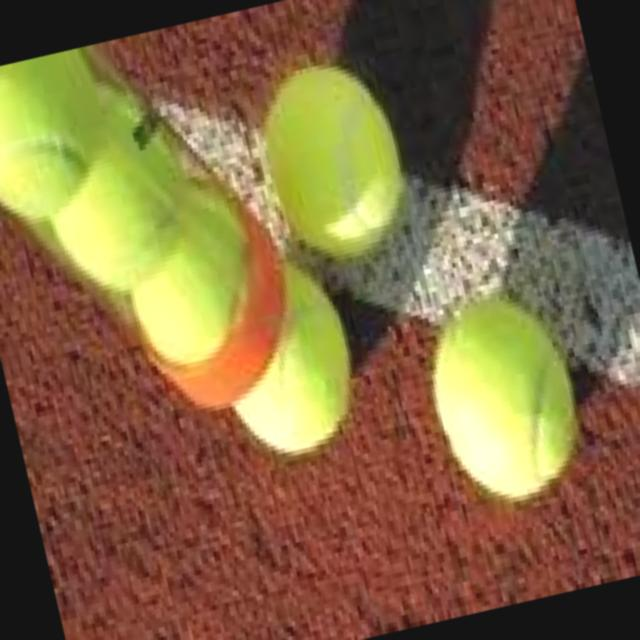Tennis Ball: (257, 63, 413, 268), (430, 296, 581, 504), (54, 82, 191, 295), (232, 261, 355, 462), (133, 178, 248, 369), (0, 47, 108, 223)
